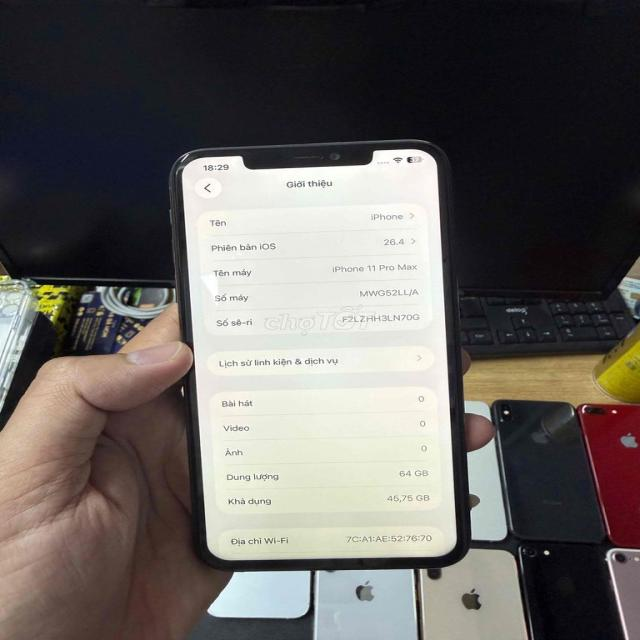gen_11: (170, 140, 468, 570)
